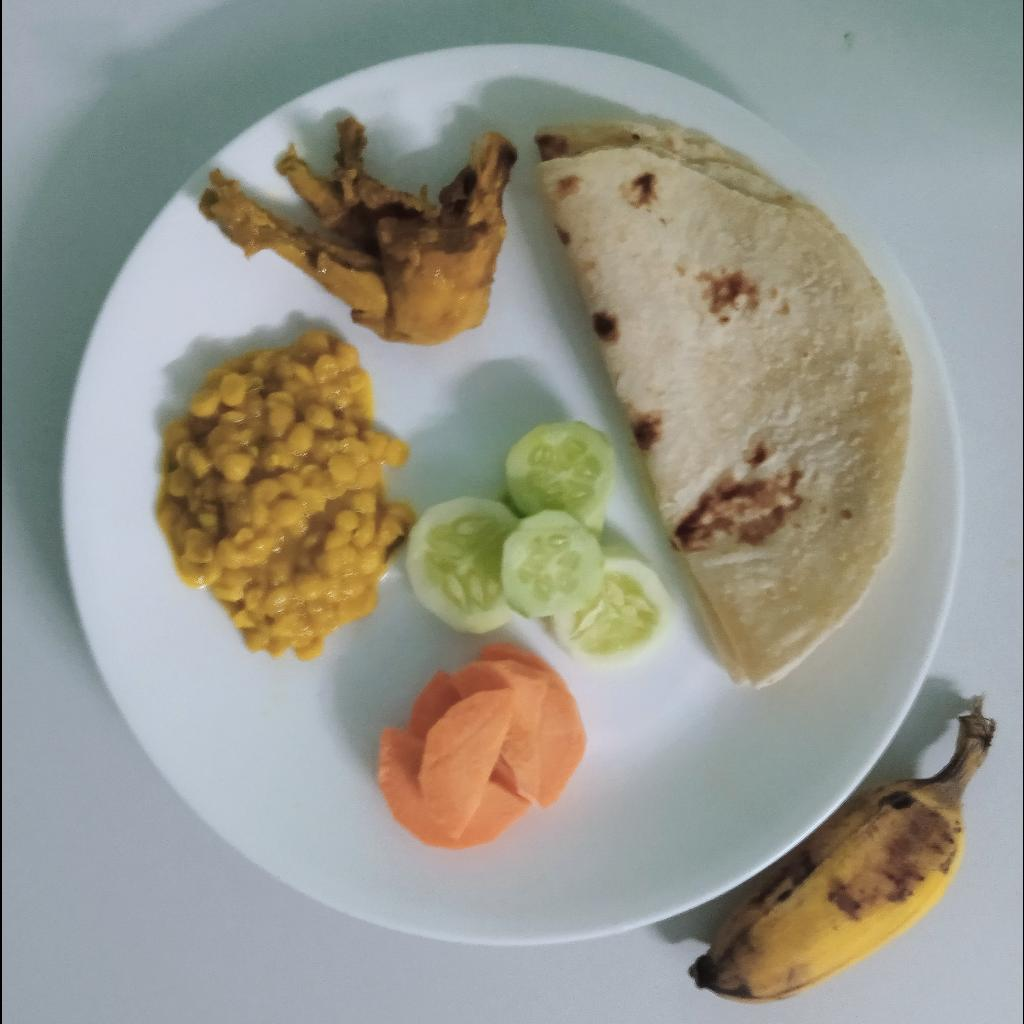banana: (686, 695, 997, 1006)
carrot: (377, 642, 590, 849)
chicken: (197, 121, 520, 346)
cucumber: (407, 422, 678, 669)
daal: (154, 331, 415, 663)
ruti: (531, 122, 908, 693)
